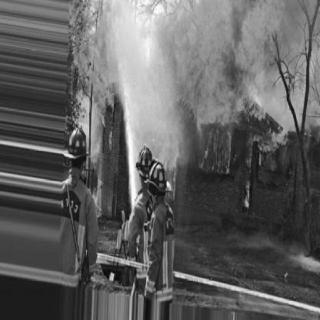Fire: (68, 1, 120, 134)
